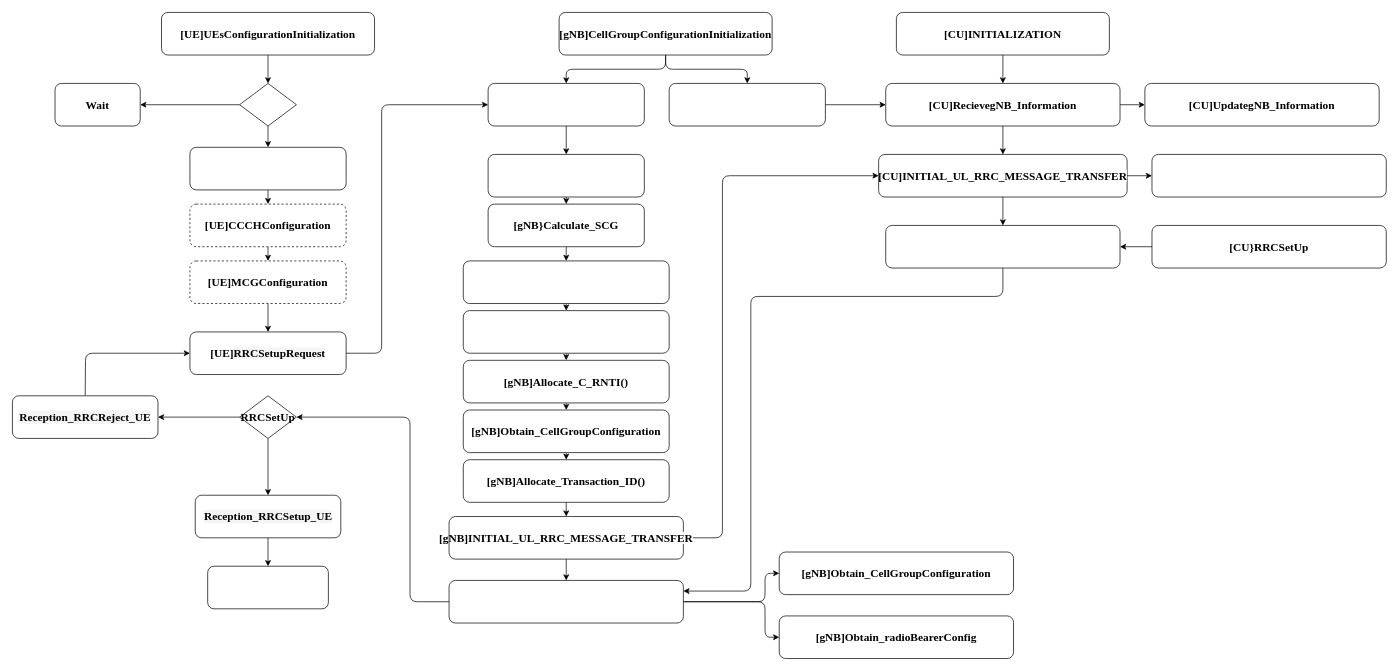
The diagram is 1399 pixels wide and 671 high, and some of its shapes have lost their labels. Each missing label, with the centre of its shape:
[CU] DL_RRC_MESSAGE_TRANSFER: (1002,246)
[CU]UpdateUE _Information: (1268,175)
[gNB] Obtain_ "NR_CGI": (566,331)
[gNB] RRCSetUp: (565,601)
[gNB] RRCSetupRequest: (565,104)
[gNB]Calculate_MCG: (565,175)
[gNB]gNB_Data_Response: (746,104)
[gNB]gNB_UE+F1AP_ID: (566,282)
[UE] RRCInitialization: (267,168)
MCG & SCG Configuration: (267,587)
RRC_IDLE: (267,104)
